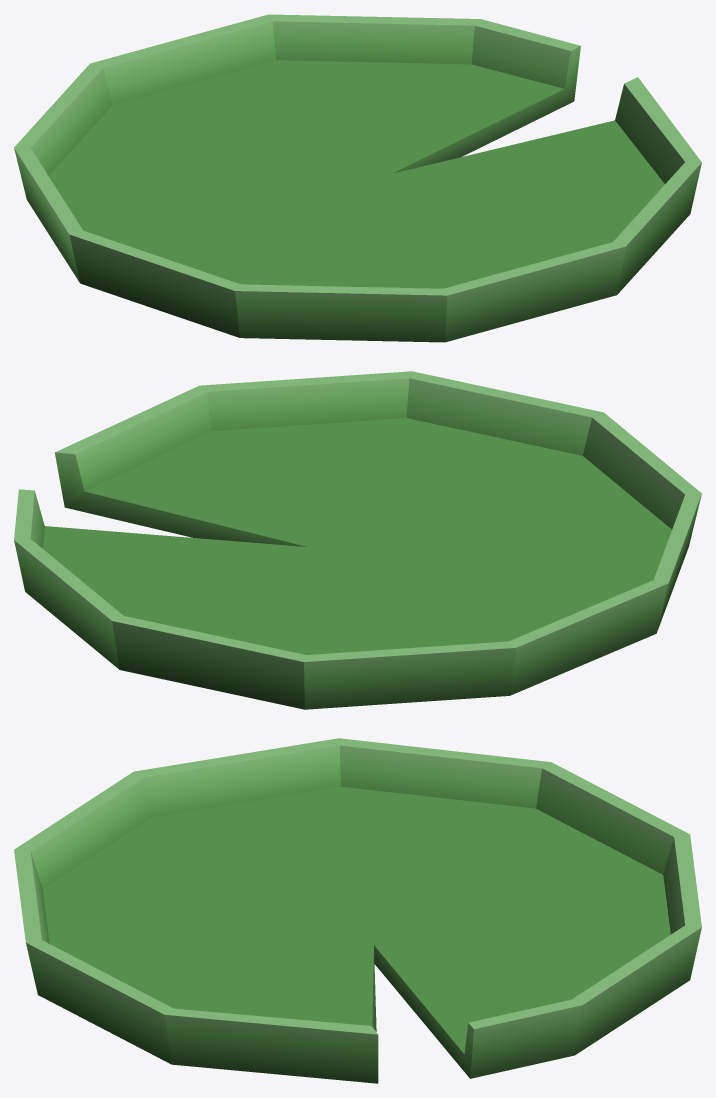
File: WaterLilies_A_1.fbx
3 views of the same model, one above another, from view 1: azimuth 30°, elevation 25°; view 2: azimuth 150°, elevation 25°; view 3: azimuth 270°, elevation 25° (orthographic). The views are drawn at different scales.
Visible parts, largest first — view 1: WaterLilies_A_1; view 2: WaterLilies_A_1; view 3: WaterLilies_A_1.
Boxes of the visible parts, bbox=[...] form: WaterLilies_A_1: bbox=[14, 14, 701, 342]; WaterLilies_A_1: bbox=[14, 371, 701, 709]; WaterLilies_A_1: bbox=[14, 738, 701, 1083].
Bounding box in the file's own units: 33.94 × 2.88 × 33.29.
